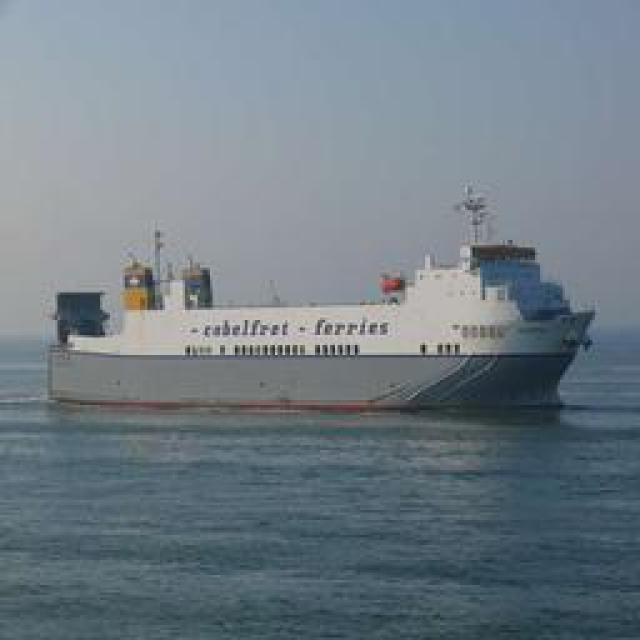Ship: (46, 185, 591, 418)
